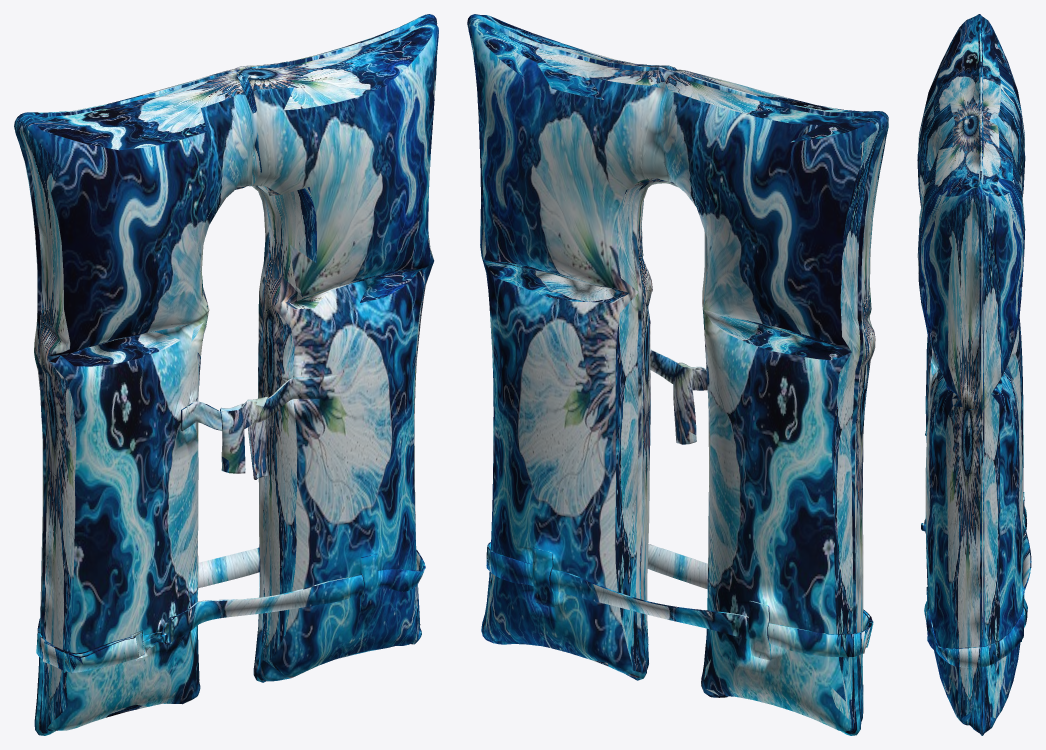
The model's file is ph_life_jacket.glb.
3 renders of one model, left to right at view 1: azimuth 30°, elevation 25°; view 2: azimuth 150°, elevation 25°; view 3: azimuth 270°, elevation 25°, orthographic. The views are drawn at different scales.
Parts seen in each view (by area): view 1: A; view 2: A; view 3: A.
Part boxes in pixels (x1=…): A: x1=14, y1=14, x2=438, y2=735; A: x1=467, y1=14, x2=888, y2=735; A: x1=917, y1=14, x2=1031, y2=735.
Bounding box in the file's own units: 1.4 × 2 × 0.3712.
Materials: 1 (1 with a texture image).
